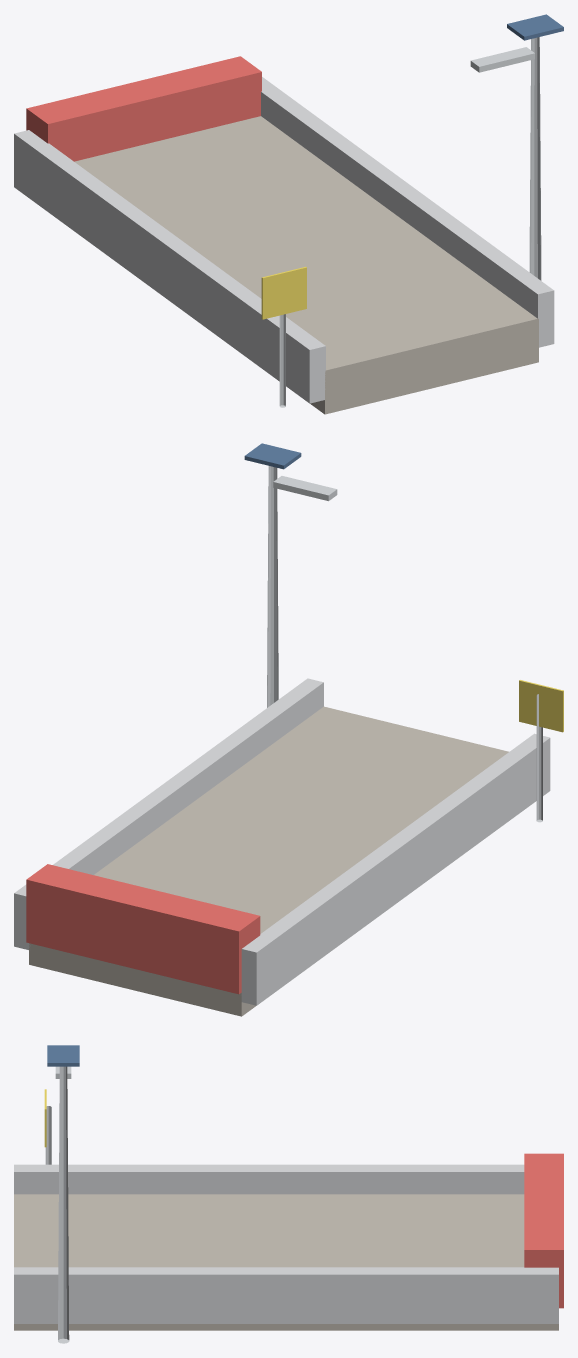
File: prop_25_ql27c_khanh_le_bidoup_emergency_escape_ramp_and_pass_sign_kit.glb
3 views of the same model, one above another, from view 1: azimuth 30°, elevation 25°; view 2: azimuth 150°, elevation 25°; view 3: azimuth 270°, elevation 25° (orthographic). The views are drawn at different scales.
Visible parts, largest first — view 1: prop_25_ql27c_khanh_le_bidoup_emergency_escape_ramp_and_pass; view 2: prop_25_ql27c_khanh_le_bidoup_emergency_escape_ramp_and_pass; view 3: prop_25_ql27c_khanh_le_bidoup_emergency_escape_ramp_and_pass.
Part boxes in pixels (left/top/right/bottom): prop_25_ql27c_khanh_le_bidoup_emergency_escape_ramp_and_pass: left=14, top=14, right=563, bottom=414; prop_25_ql27c_khanh_le_bidoup_emergency_escape_ramp_and_pass: left=14, top=443, right=563, bottom=1016; prop_25_ql27c_khanh_le_bidoup_emergency_escape_ramp_and_pass: left=14, top=1045, right=563, bottom=1343.
Bounding box in the file's own units: 6.5 × 6.39 × 11.1.
